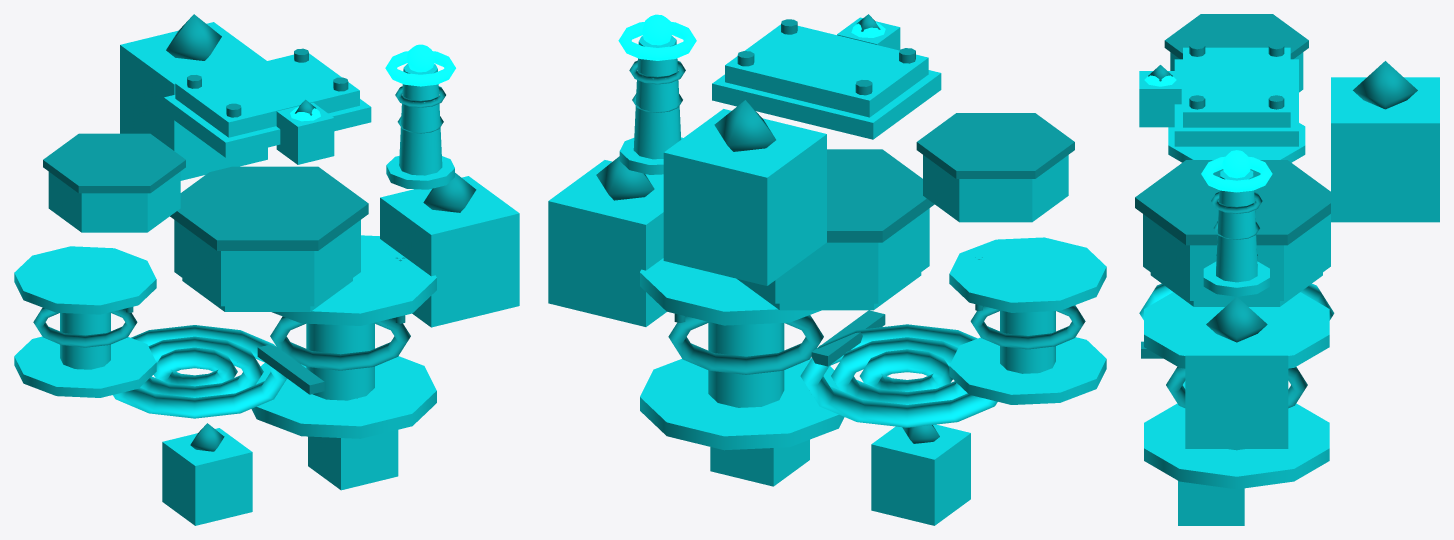
Rendered from golem_074.glb.
3 renders of one model, left to right at view 1: azimuth 30°, elevation 25°; view 2: azimuth 150°, elevation 25°; view 3: azimuth 270°, elevation 25°, orthographic. The views are drawn at different scales.
Parts seen in each view (by area): view 1: Body, Detail, Glow; view 2: Body, Detail, Glow; view 3: Body, Detail, Glow.
Part boxes in pixels (x1,y1,x2,y2): Body: [14, 22, 519, 525]; Detail: [33, 14, 476, 451]; Glow: [290, 44, 455, 121]; Body: [548, 17, 1106, 525]; Detail: [596, 14, 1085, 443]; Glow: [618, 14, 885, 60]; Body: [1139, 47, 1439, 525]; Detail: [1135, 14, 1417, 408]; Glow: [1144, 75, 1272, 192].
Size of the model in its own units: 1.3 by 1.09 by 0.7258.
